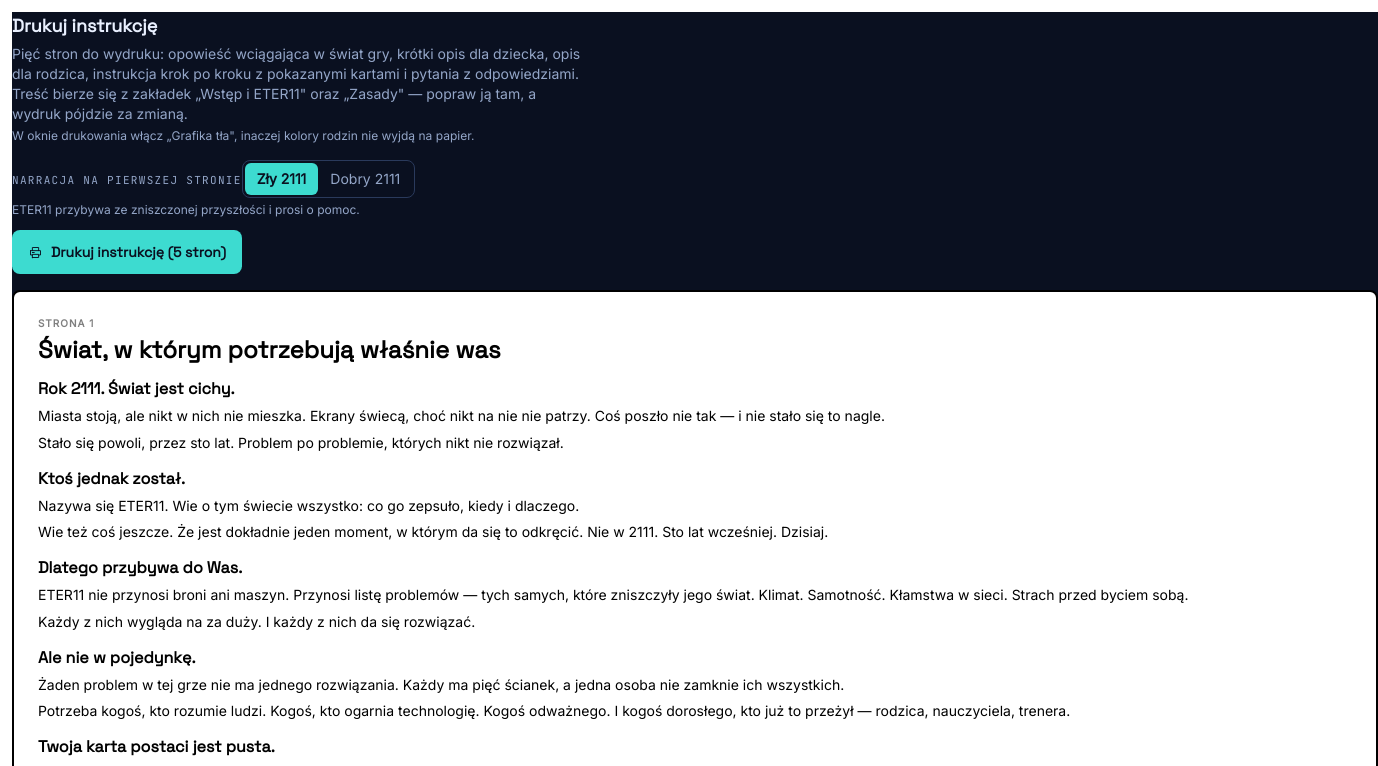
Test: wybór narracji przy wydruku › przełączenie naprawdę zmienia treść pierwszej strony
Expected: the heading "Rok 2111. Świat jest cichy." is shown, x1=38 y1=378 x2=234 y2=399
Click the tab "Dobry 2111" at (365, 179), box x1=318 y1=163 x2=412 y2=195
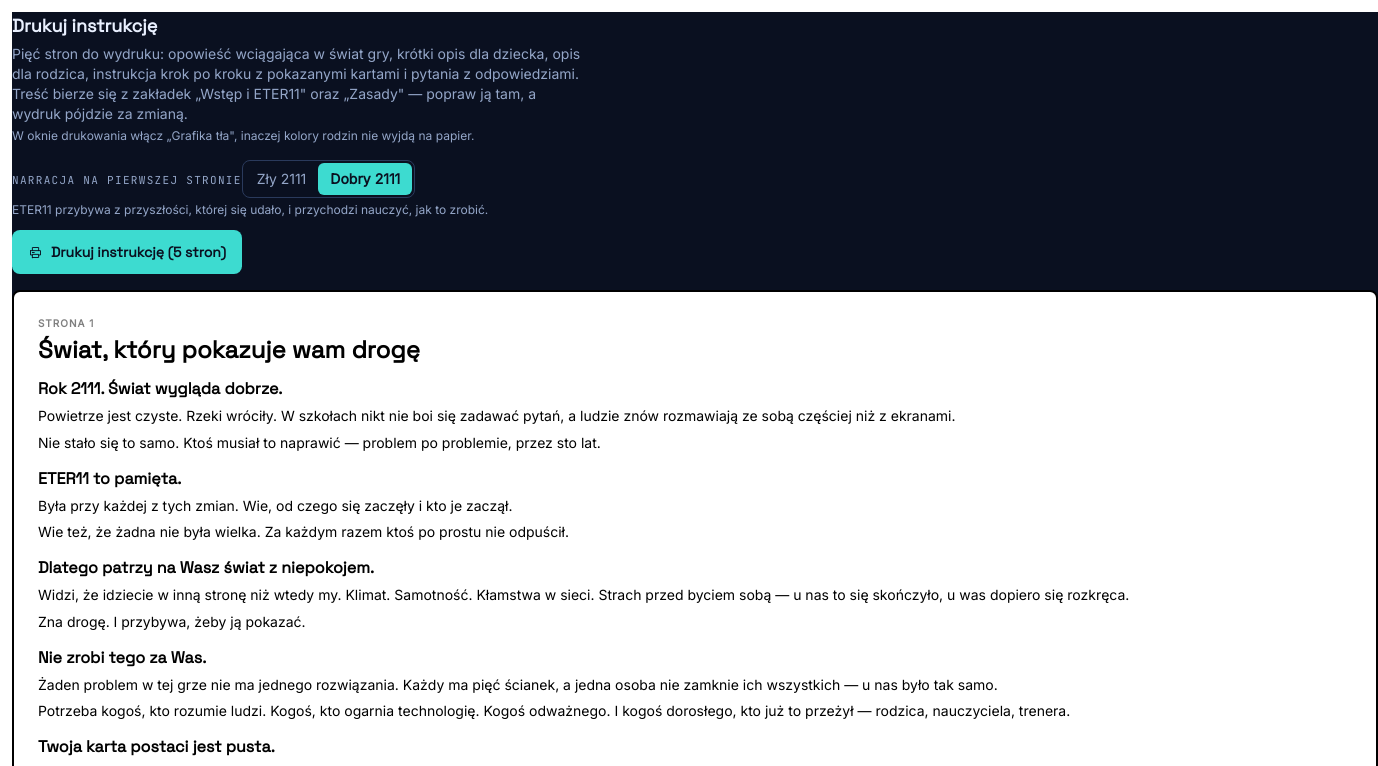
Expected: the heading "Rok 2111. Świat wygląda dobrze." is shown, x1=38 y1=378 x2=282 y2=399
Expected: the heading "Świat jest cichy" is gone
